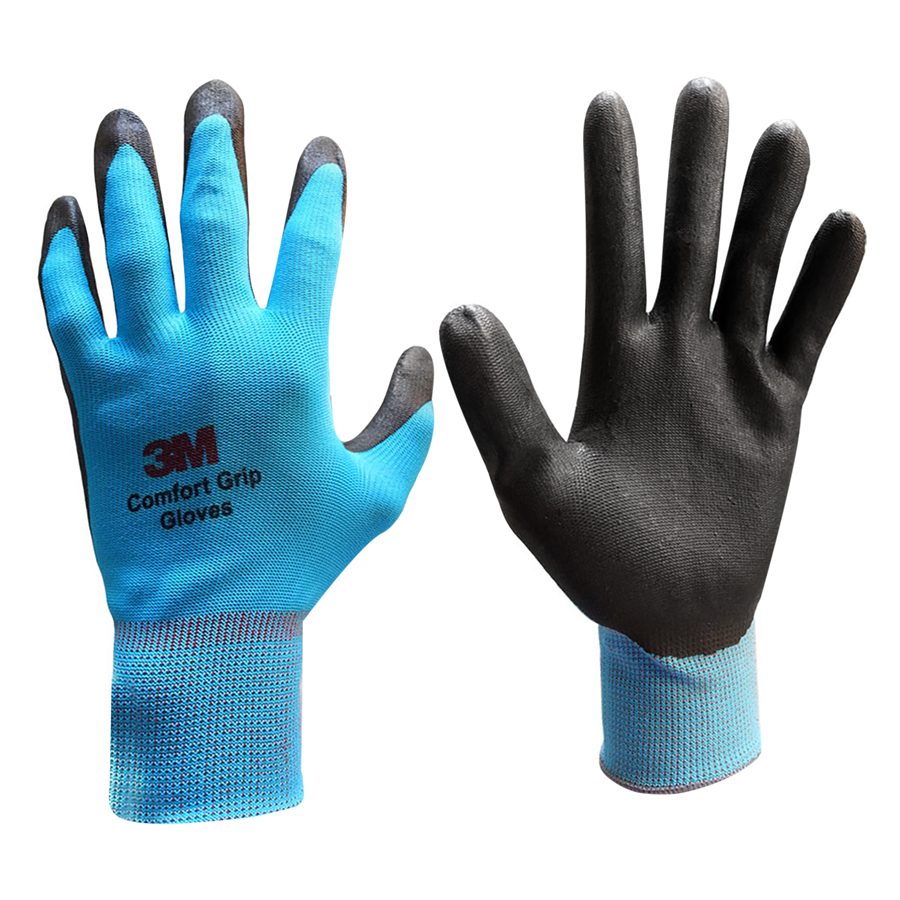3M: (136, 421, 227, 486)
